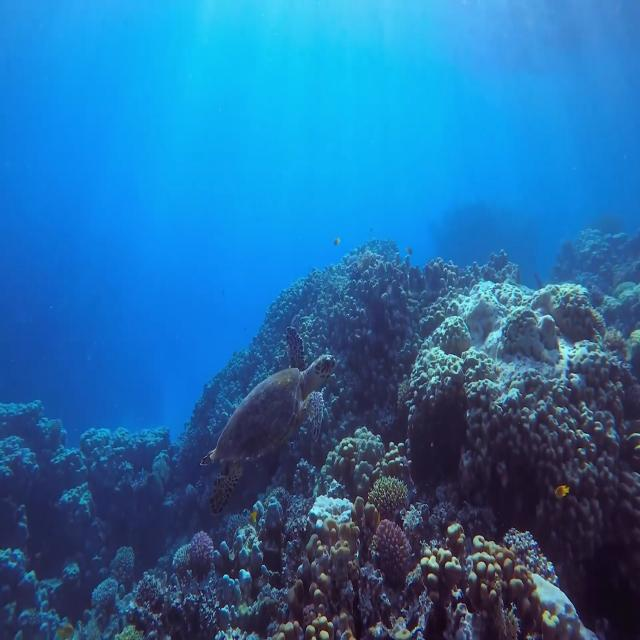Hawksbill-Sea-Turtle -Endangered-: (203, 352, 338, 512)
